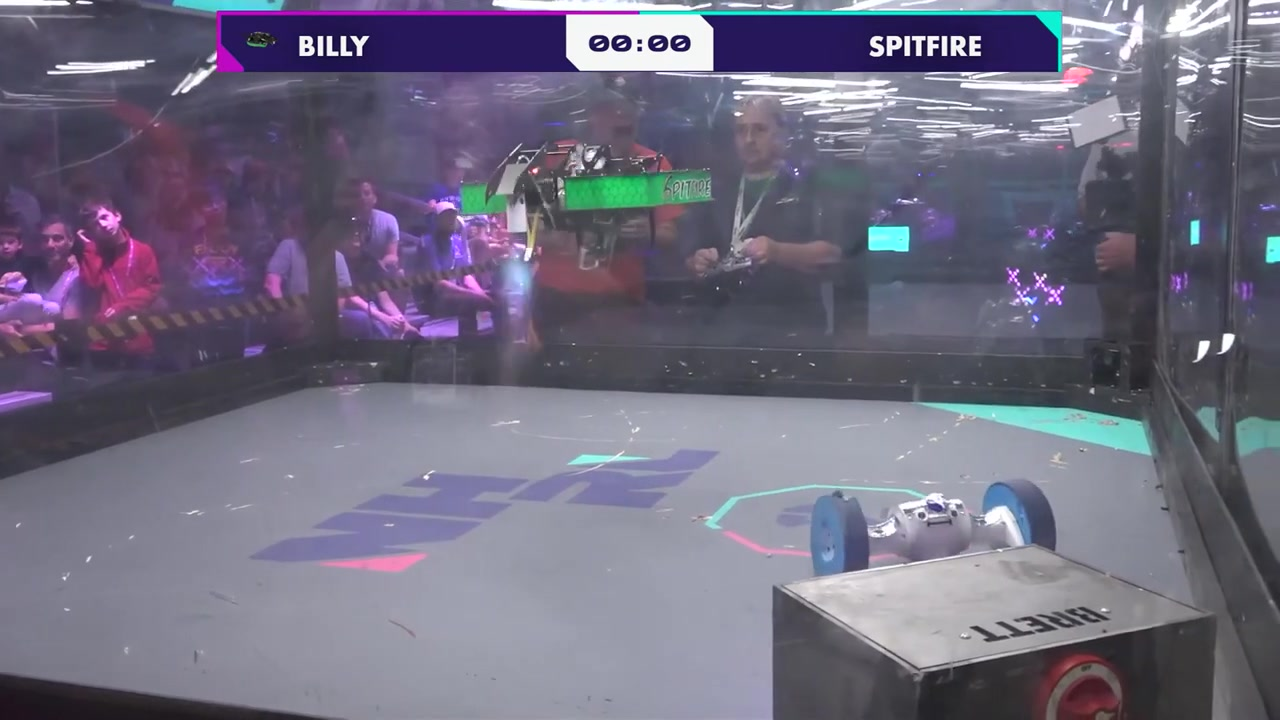combatbot: (445, 130, 732, 275), (810, 475, 1062, 575)
housebot: (768, 542, 1217, 720)
